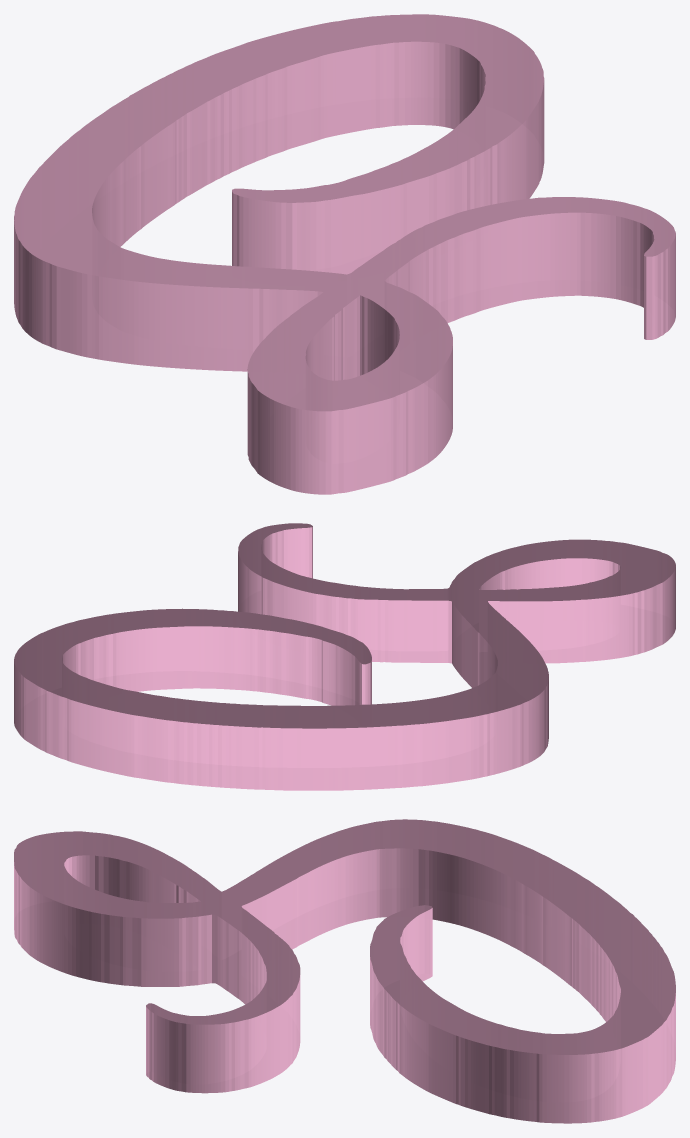
The model's file is scss.glb.
3 renders of one model, top to bottom at view 1: azimuth 30°, elevation 25°; view 2: azimuth 150°, elevation 25°; view 3: azimuth 270°, elevation 25°, orthographic. The views are drawn at different scales.
Parts seen in each view (by area): view 1: Node1; view 2: Node1; view 3: Node1.
Boxes of the visible parts, x1,y1,x2,y2 form: Node1: (14,14,675,494); Node1: (14,523,675,790); Node1: (14,819,675,1123).
Size of the model in its own units: 2.9 by 0.3937 by 3.45.
